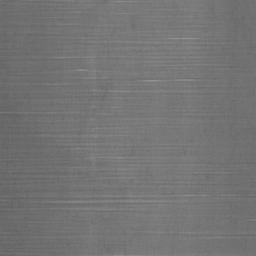Waist folding: (0, 0, 256, 256), (104, 0, 152, 5), (169, 36, 200, 41)
